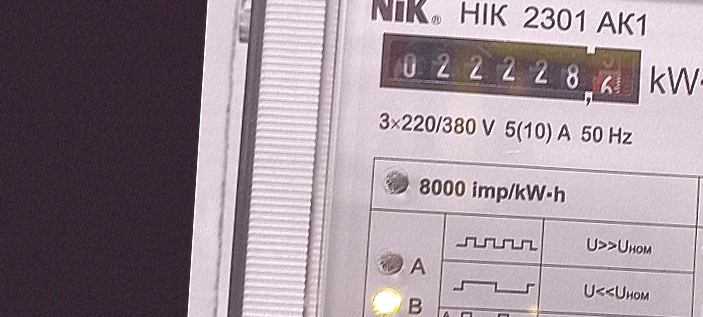0: (399, 50, 417, 79)
2: (432, 50, 453, 80), (466, 52, 484, 82), (498, 54, 517, 82), (532, 57, 550, 86)
5: (599, 49, 616, 70)
6: (597, 72, 615, 94)
8: (563, 61, 580, 90)
screen: (370, 21, 652, 114)
